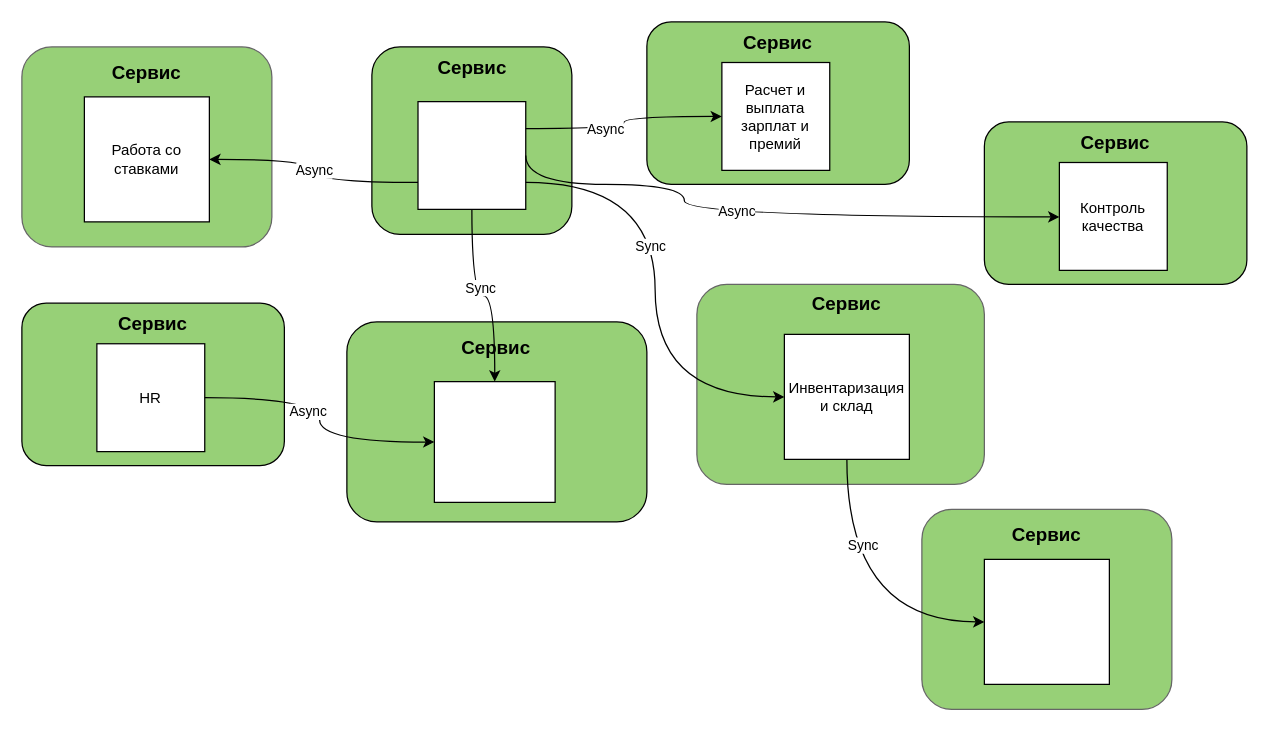
This 1269x731 diagram has some shape labels left out. Here are the shapes that lost their labels. From the top down, the centre of each, then its label:
(471,154): Аутсорс рутинных задач и и их оплата
(494,441): Система подбора воркеров под задачи
(1046,621): Работа с пекарней
